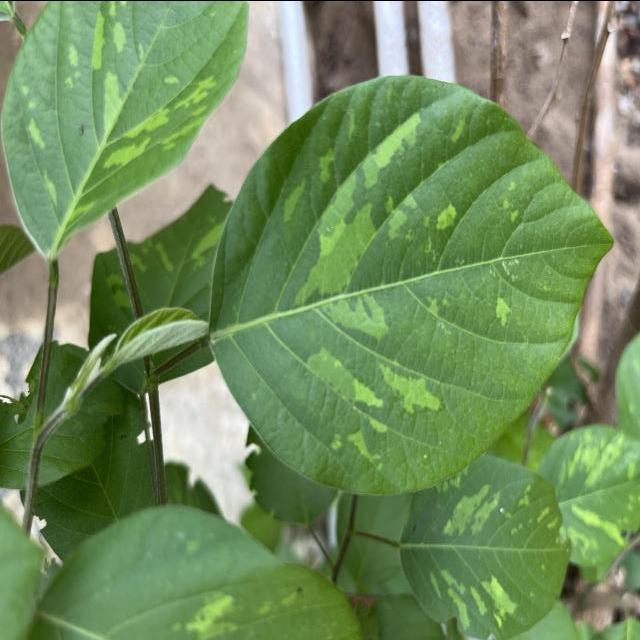Desmodium gangeticum: (206, 66, 618, 505)
